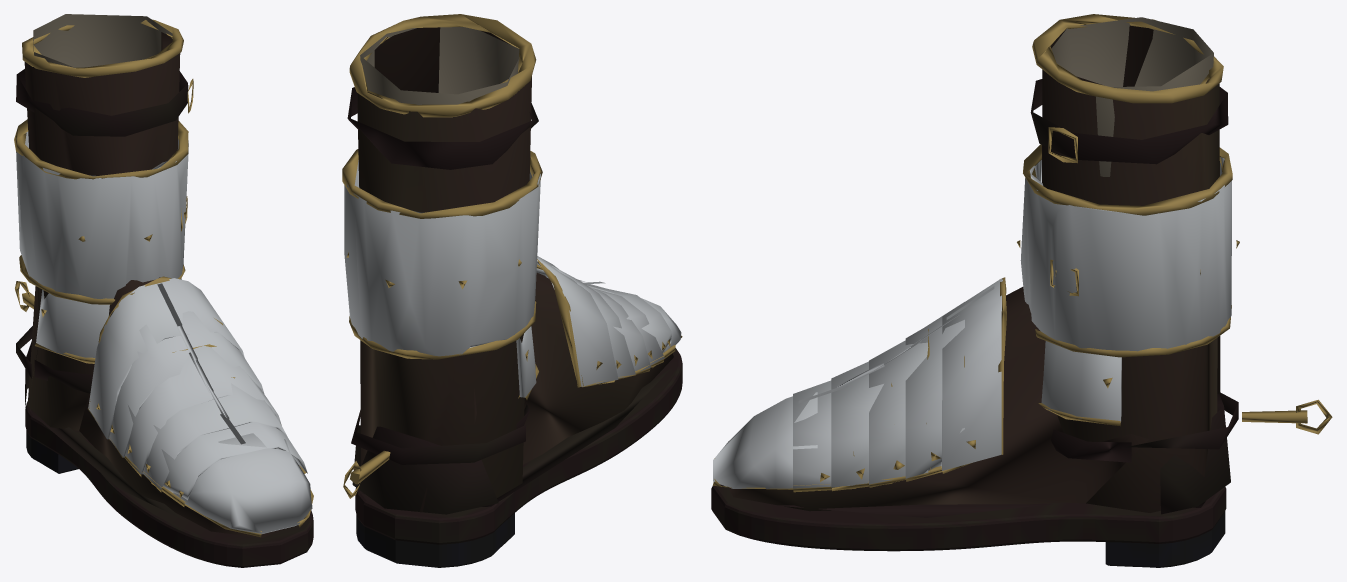
The picture shows the model from 3 angles, left to right: view 1: azimuth 30°, elevation 25°; view 2: azimuth 150°, elevation 25°; view 3: azimuth 270°, elevation 25°; orthographic projection. The views are drawn at different scales.
Visible parts, largest first — view 1: aged alloy edge, oiled strap leather; view 2: oiled strap leather, aged alloy edge; view 3: oiled strap leather, aged alloy edge.
Part boxes in pixels (x1,y1,x2,y2): aged alloy edge: (14,19,313,537); oiled strap leather: (16,14,313,567); oiled strap leather: (347,27,682,567); aged alloy edge: (342,14,682,498); oiled strap leather: (711,17,1238,567); aged alloy edge: (713,14,1332,492).
Bounding box in the file's own units: 0.1088 × 0.2888 × 0.3308.
